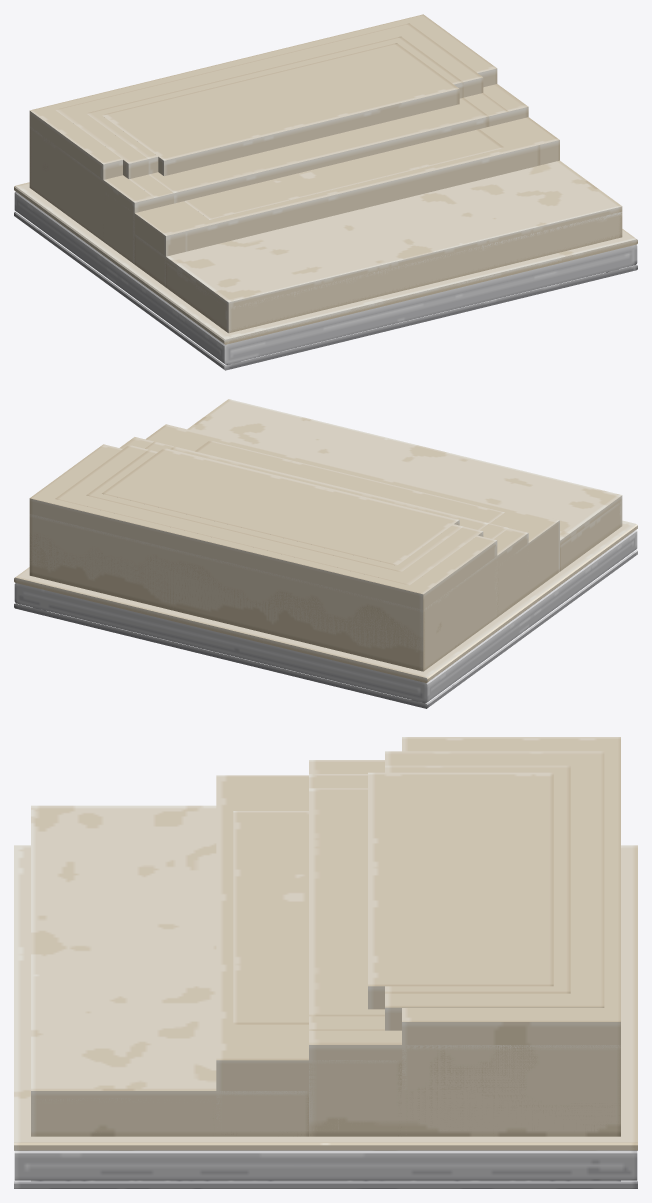
File: display.glb
3 views of the same model, one above another, from view 1: azimuth 30°, elevation 25°; view 2: azimuth 150°, elevation 25°; view 3: azimuth 270°, elevation 25° (orthographic). The views are drawn at different scales.
Parts seen in each view (by area): view 1: tier_84x74_tiers, grand_64x58_tiers, grand_84x74_tiers, tier_84x74_plinth, grand_76x70_tiers, tier_68x62_tiers, grand_68x62_tiers, tier_76x70_tiers; view 2: tier_84x74_tiers, grand_84x74_tiers, grand_64x58_tiers, tier_84x74_plinth, grand_76x70_tiers, grand_68x62_tiers, tier_68x62_tiers, tier_76x70_tiers; view 3: tier_84x74_tiers, grand_84x74_tiers, grand_64x58_tiers, tier_84x74_plinth, grand_76x70_tiers, tier_68x62_tiers, grand_68x62_tiers, tier_76x70_tiers.
Part boxes in pixels (x1,y1,x2,y2): tier_84x74_tiers: (14,84,637,364); grand_64x58_tiers: (102,43,504,219); grand_84x74_tiers: (14,14,636,364); tier_84x74_plinth: (14,191,637,370); grand_76x70_tiers: (55,23,540,251); tier_68x62_tiers: (149,97,489,203); grand_68x62_tiers: (86,36,463,174); tier_76x70_tiers: (129,93,508,197); tier_84x74_tiers: (14,399,637,703); grand_84x74_tiers: (14,424,637,700); grand_64x58_tiers: (102,440,504,565); tier_84x74_plinth: (14,530,637,708); grand_76x70_tiers: (55,445,483,585); grand_68x62_tiers: (86,449,463,572); tier_68x62_tiers: (170,446,488,530); tier_76x70_tiers: (145,441,508,539); tier_84x74_tiers: (14,760,637,1150); grand_84x74_tiers: (14,737,637,1181); grand_64x58_tiers: (233,772,553,1024); tier_84x74_plinth: (14,1150,637,1188); grand_76x70_tiers: (385,751,604,1030); tier_68x62_tiers: (309,788,384,1016); grand_68x62_tiers: (385,765,570,993); tier_76x70_tiers: (309,774,384,1030).
Size of the model in its own units: 0.42 by 0.11 by 0.37.
2 materials, 2 textured.
